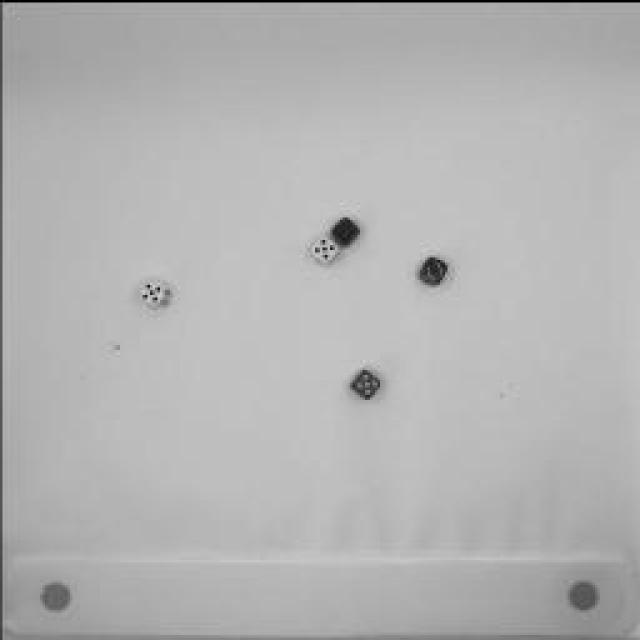dice_1: (332, 212, 362, 242)
dice_3: (411, 250, 449, 288)
dice_5: (336, 362, 386, 402), (138, 278, 172, 310), (310, 232, 338, 262)
